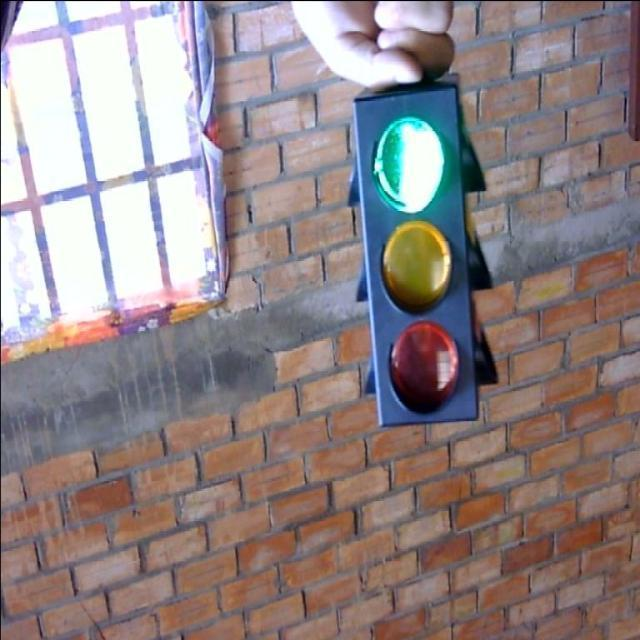green_light: (348, 74, 496, 424)
